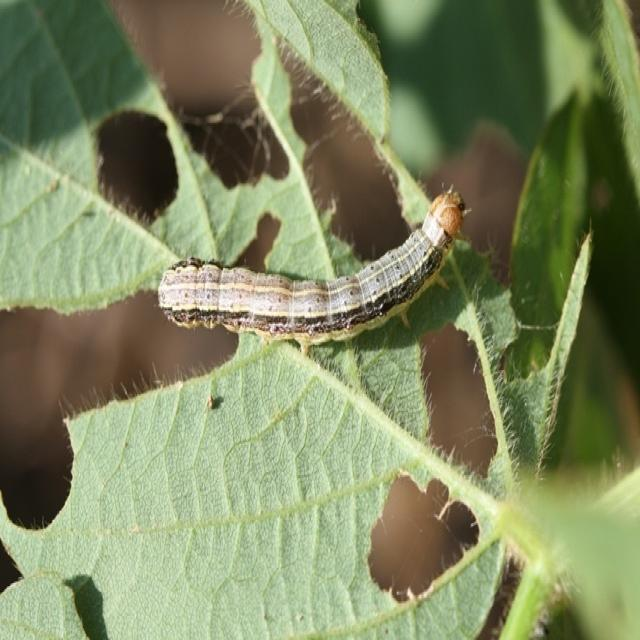armyworm: (156, 182, 472, 352)
